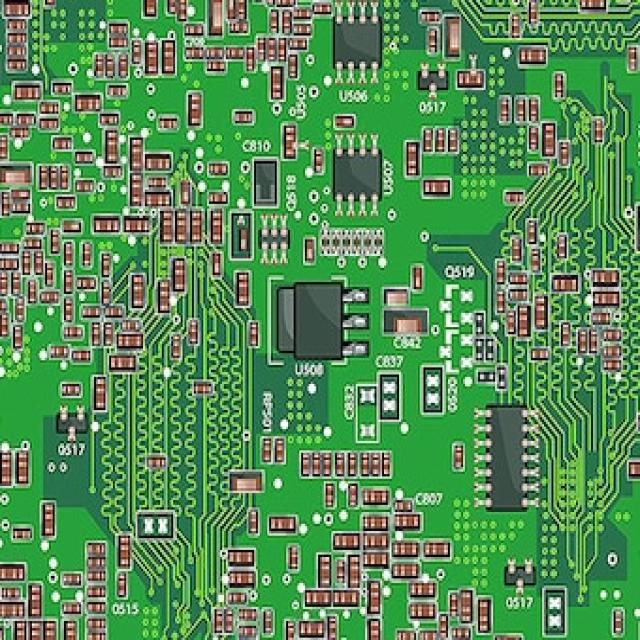pcb: (0, 0, 638, 638), (275, 278, 344, 360)
